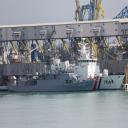Fragata: (8, 55, 97, 95)
